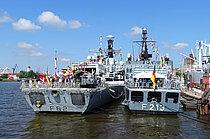MIL_Ship: (19, 31, 123, 114), (123, 26, 190, 115)
